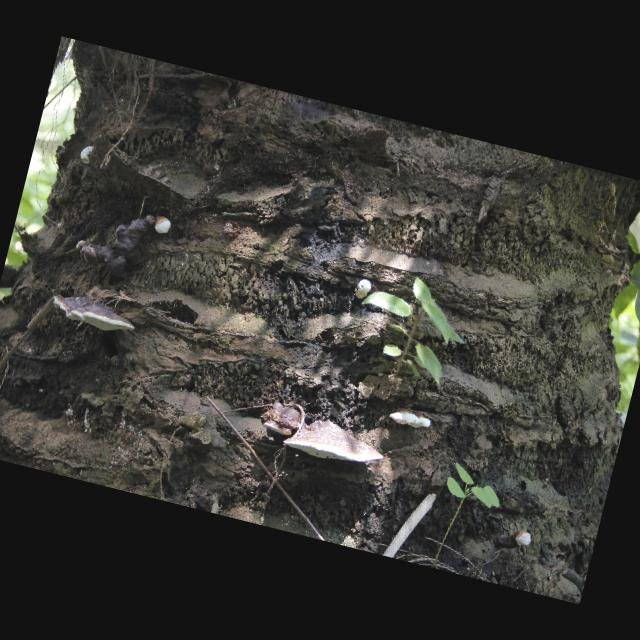ganoderma: (282, 412, 391, 475), (80, 202, 156, 286), (49, 289, 140, 340), (257, 399, 309, 440), (387, 405, 433, 432)
primordium: (352, 278, 374, 302), (511, 529, 534, 550), (154, 216, 174, 237), (78, 145, 94, 166), (76, 239, 87, 254)
